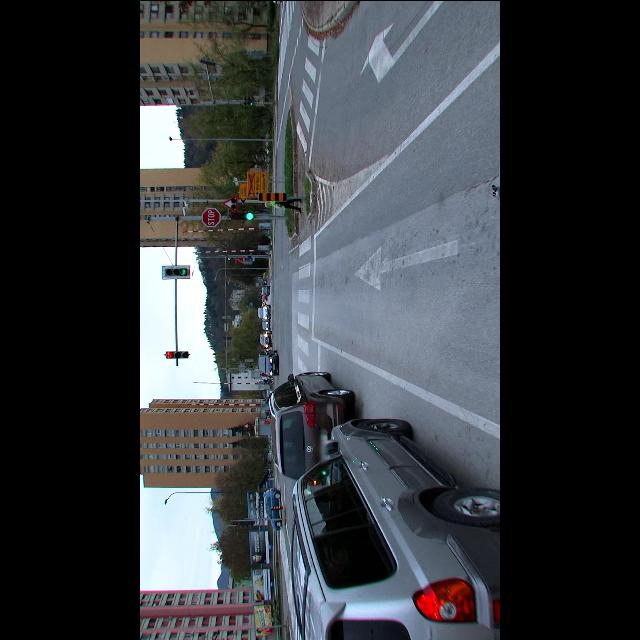Rectangle: (247, 168, 269, 196)
Stop: (200, 207, 222, 225)
Triangle: (221, 193, 241, 210)
